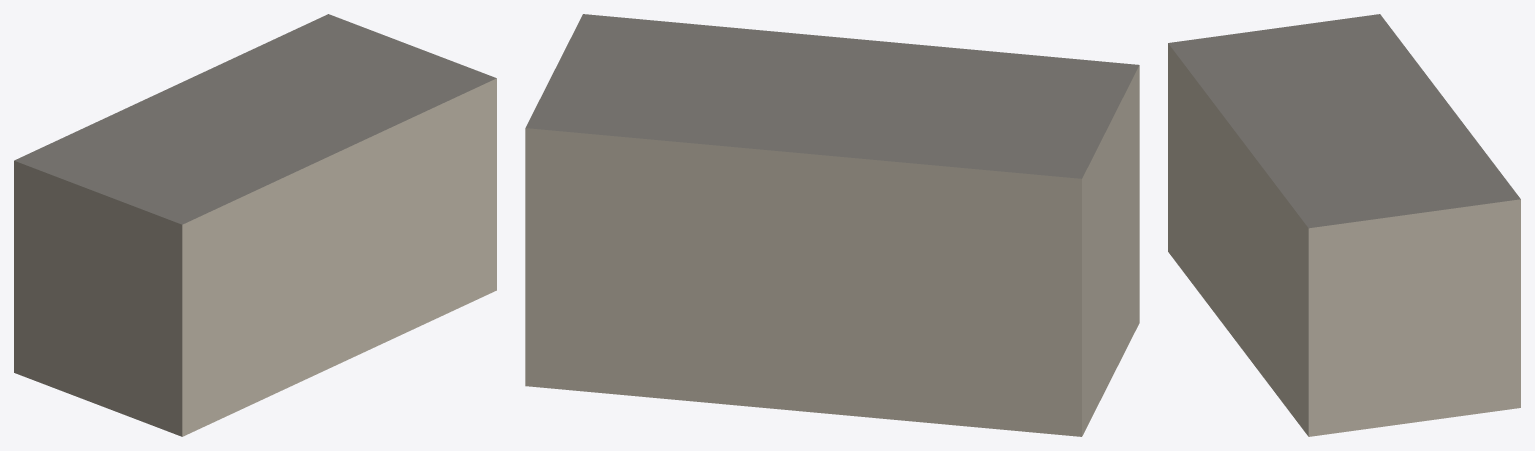
3 views of the same model, side by side, from view 1: azimuth 30°, elevation 25°; view 2: azimuth 150°, elevation 25°; view 3: azimuth 270°, elevation 25° (orthographic). The views are drawn at different scales.
Visible parts, largest first — view 1: HP-w1203858314; view 2: HP-w1203858314; view 3: HP-w1203858314.
Part boxes in pixels (<box>): HP-w1203858314: <box>14,14,496,436</box>; HP-w1203858314: <box>525,14,1139,436</box>; HP-w1203858314: <box>1168,14,1520,436</box>.
Size of the model in its own units: 26.43 by 12 by 18.39.
